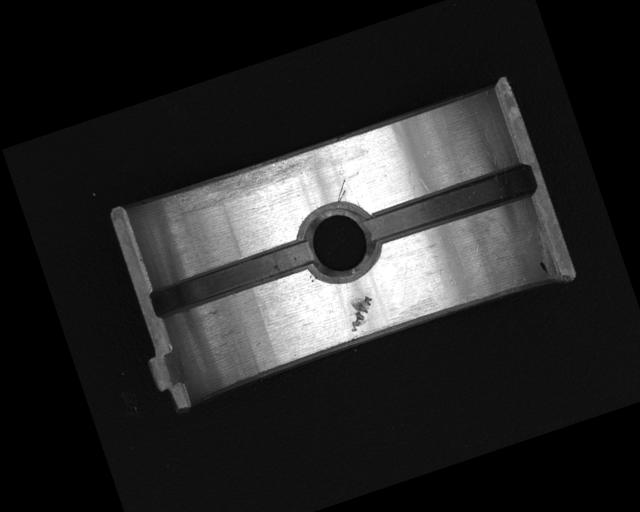blot: (537, 258, 551, 276)
bruise: (339, 290, 381, 334)
gap: (360, 160, 538, 248), (146, 235, 316, 320)
hole: (291, 195, 385, 288)
nick: (331, 179, 351, 204)
scratch: (163, 145, 318, 225)
